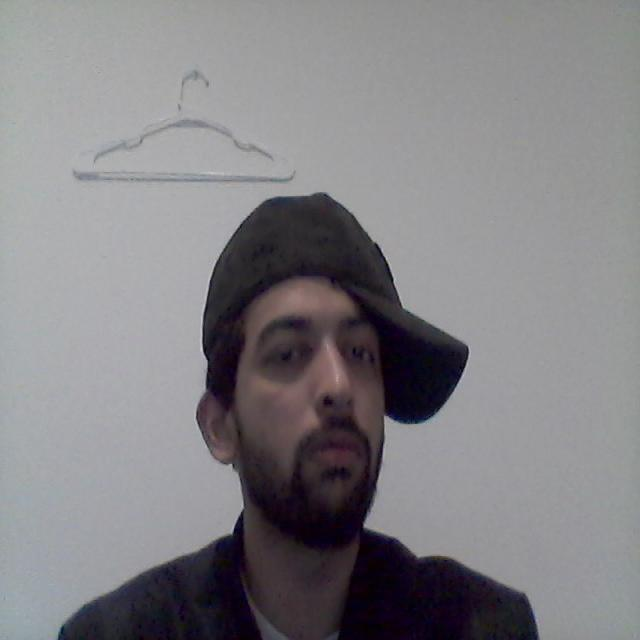cap: (133, 183, 495, 433)
